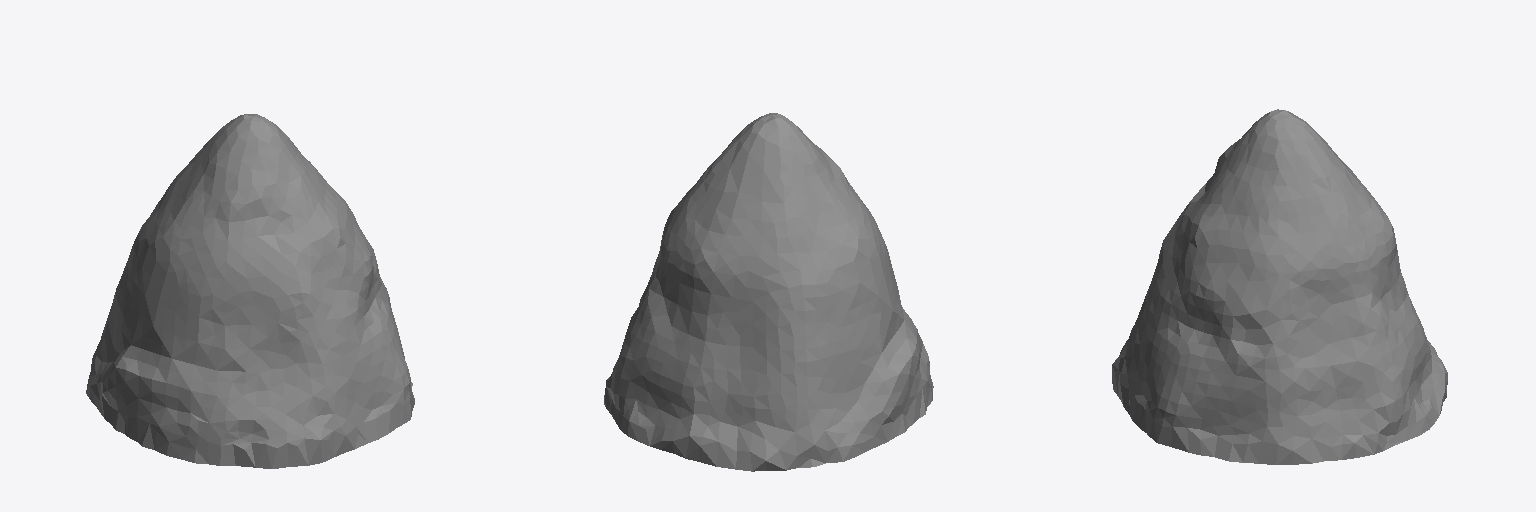
The model's file is Straw00.obj.
3 renders of one model, left to right at view 1: azimuth 30°, elevation 25°; view 2: azimuth 150°, elevation 25°; view 3: azimuth 270°, elevation 25°, orthographic.
Visible parts, largest first — view 1: level_obstacle_haystack; view 2: level_obstacle_haystack; view 3: level_obstacle_haystack.
Part boxes in pixels (left/top/right/bottom): level_obstacle_haystack: left=86, top=114, right=414, bottom=468; level_obstacle_haystack: left=604, top=113, right=933, bottom=471; level_obstacle_haystack: left=1112, top=109, right=1447, bottom=464.
Bounding box in the file's own units: 6.09 × 5.92 × 6.38.